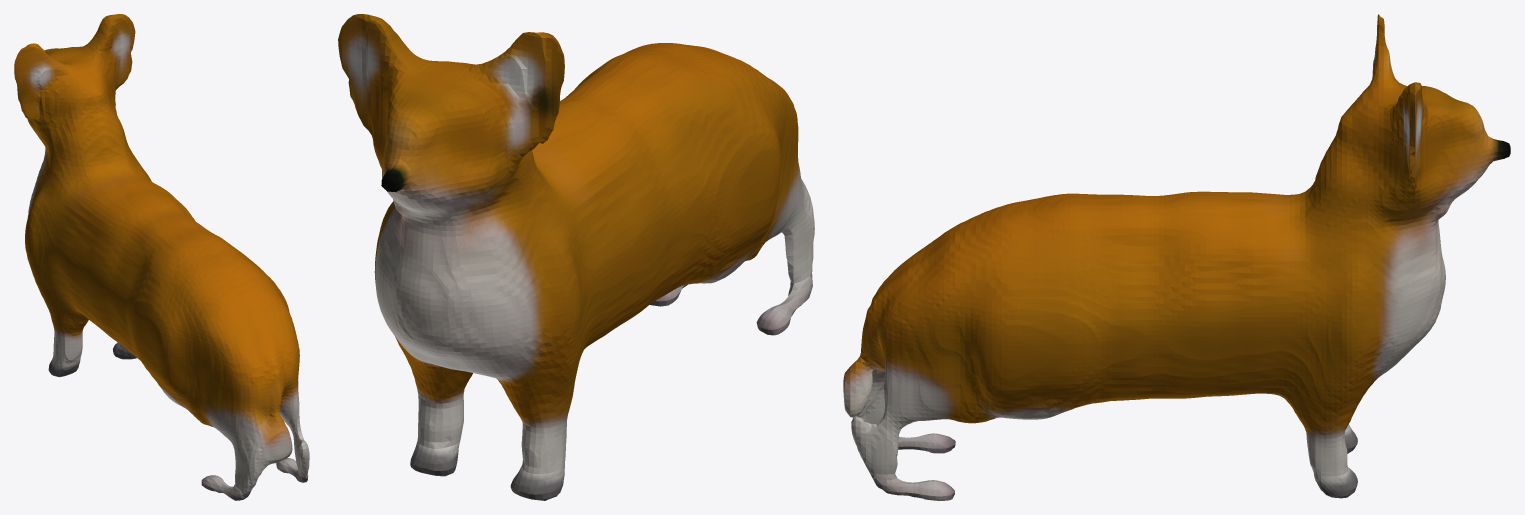
3 renders of one model, left to right at view 1: azimuth 30°, elevation 25°; view 2: azimuth 150°, elevation 25°; view 3: azimuth 270°, elevation 25°, orthographic. The views are drawn at different scales.
Visible parts, largest first — view 1: tmpiikyrutb.ply; view 2: tmpiikyrutb.ply; view 3: tmpiikyrutb.ply.
Boxes of the visible parts, box(x1,y1,x2,y2) form: tmpiikyrutb.ply: box(14, 14, 309, 500); tmpiikyrutb.ply: box(338, 14, 814, 500); tmpiikyrutb.ply: box(843, 14, 1510, 500).
Size of the model in its own units: 0.6047 by 1.38 by 1.98.
